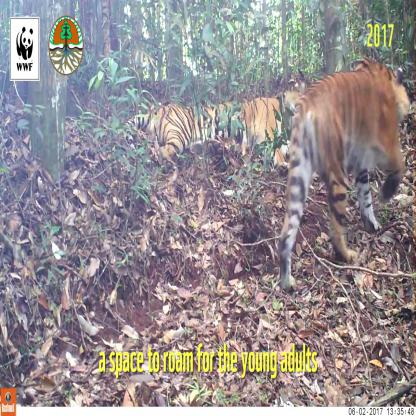Tiger: (276, 30, 416, 273), (125, 81, 306, 228)
